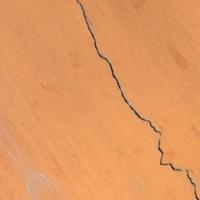crack: (74, 0, 199, 199)
